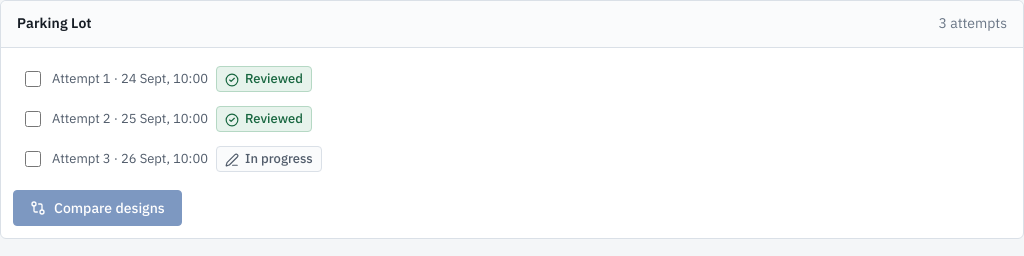
AttemptComparisonPicker › disables the compare action until exactly two attempts are selected
This screenshot has width=1024, height=256.
expect the button "Compare designs" is disabled: met, box [13,190,182,226]
Step 1. Click the checkbox labelled "Attempt 1 · 24 Sept, 10:00 Reviewed" → (33, 79), box [25,71,41,87]
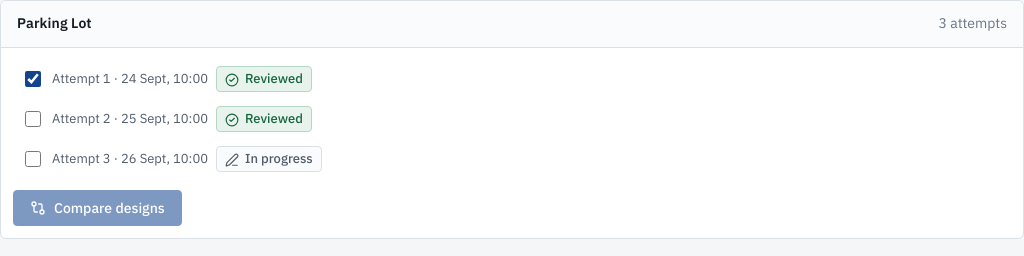
expect the button "Compare designs" is disabled: met, box [13,190,182,226]
Step 2. Click the checkbox labelled "Attempt 2 · 25 Sept, 10:00 Reviewed" → (33, 119), box [25,111,41,127]
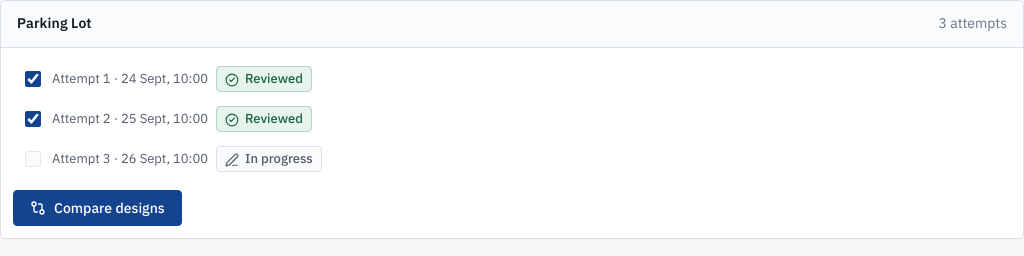
expect the button "Compare designs" is enabled: met, box [13,190,182,226]
